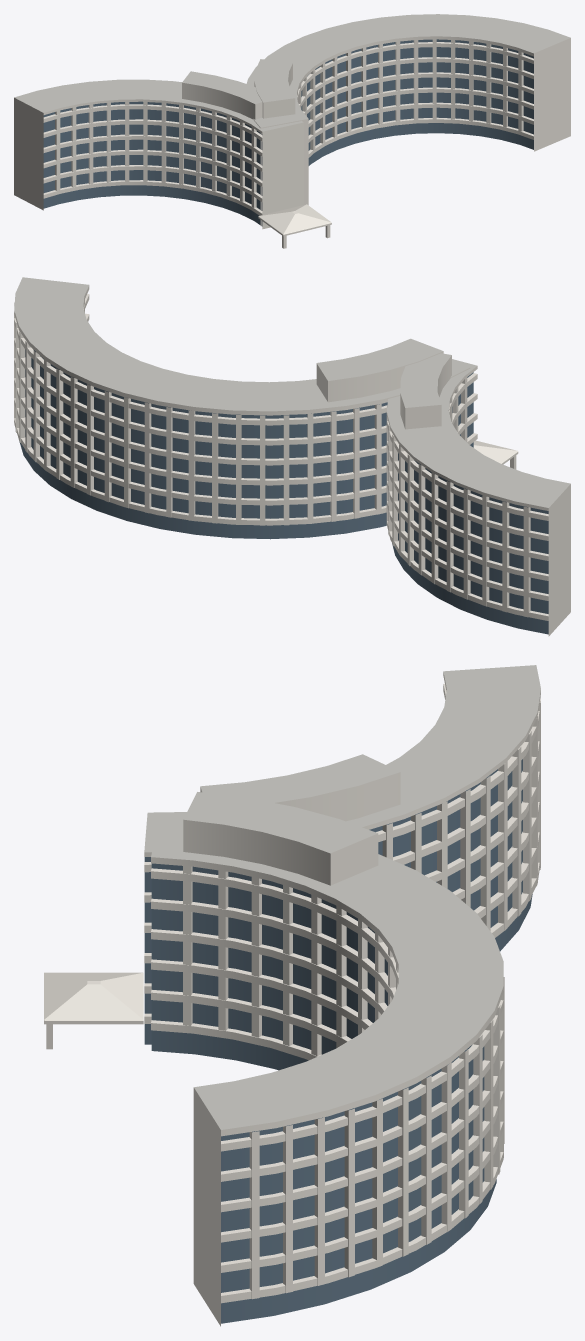
3 renders of one model, top to bottom at view 1: azimuth 30°, elevation 25°; view 2: azimuth 150°, elevation 25°; view 3: azimuth 270°, elevation 25°, orthographic. The views are drawn at different scales.
Visible parts, largest first — view 1: washington-hilton; view 2: washington-hilton; view 3: washington-hilton.
Boxes of the visible parts, x1,y1,x2,y2 form: washington-hilton: (14,14,570,248); washington-hilton: (14,277,570,636); washington-hilton: (44,665,540,1326).
Bounding box in the file's own units: 191 × 43.75 × 86.1.
